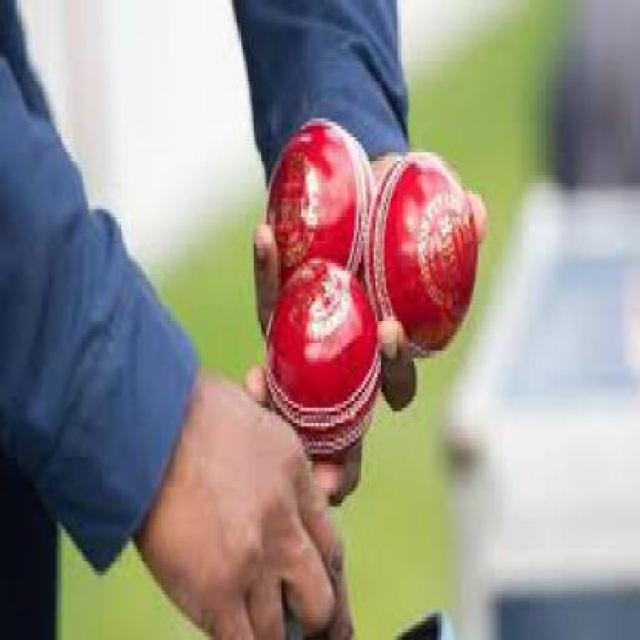ball: (221, 100, 390, 276)
